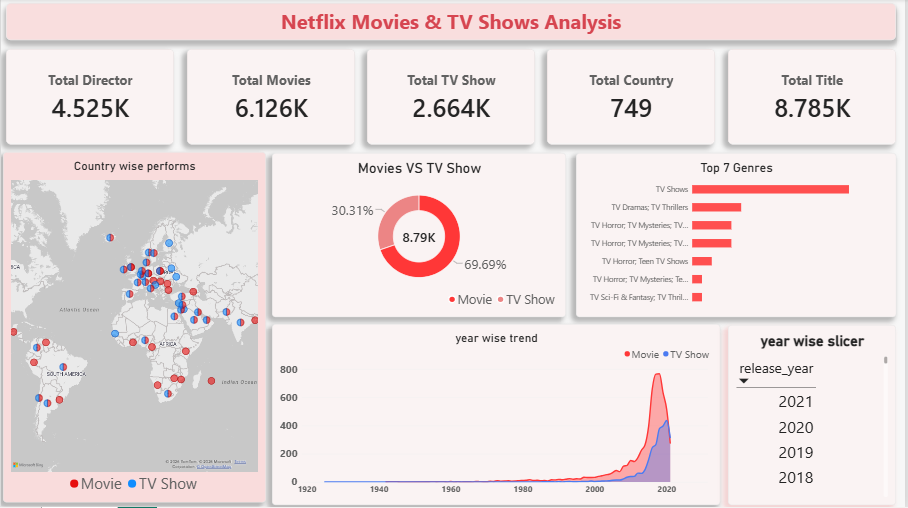

The page's visual inventory and layout, read from the dashboard file:
{"tool":"powerbi","page":{"name":"Page 1","canvas":[1920,1080],"ordinal":0},"visuals":[{"type":"textbox","box":[10.7,8.6,1892.2,79.2],"z":0},{"type":"cardVisual","fields":{"Data":["Count(netflix netflix_title.director)"]},"box":[10.7,107,357.5,203.3],"z":1000},{"type":"cardVisual","fields":{"Data":["Count(netflix netflix_title.show_id)"]},"box":[394.4,107,357.5,203.3],"z":2000},{"type":"cardVisual","fields":{"Data":["Count(netflix netflix_title.show_id)"]},"box":[778.1,107,357.5,203.3],"z":3000},{"type":"cardVisual","fields":{"Data":["Count(netflix netflix_title.country)"]},"box":[1161.7,107,357.5,203.3],"z":4000},{"type":"cardVisual","fields":{"Data":["Count(netflix netflix_title.title)"]},"box":[1545.4,107,357.5,203.3],"z":5000},{"type":"donutChart","title":"Movies vs TV Shows","fields":{"Category":["netflix netflix_title.type"],"Y":["CountNonNull(netflix netflix_title.show_id)"]},"box":[575.8,327.5,625,348.9],"z":6000},{"type":"barChart","title":"Top 7 Genres","fields":{"Category":["netflix netflix_title.listed_in"],"Y":["CountNonNull(netflix netflix_title.show_id)"]},"box":[1222.2,327.5,680.7,348.9],"z":7000},{"type":"areaChart","title":"Year-wise Trend","fields":{"Category":["netflix netflix_title.release_year"],"Series":["netflix netflix_title.type"],"Y":["CountNonNull(netflix netflix_title.show_id)"]},"box":[575.8,691.4,952.5,385.3],"z":7001},{"type":"tableEx","title":"Select Year","fields":{"Values":["netflix netflix_title.release_year"]},"box":[1545.4,693.5,356.6,383.5],"z":7002},{"type":"map","title":"Country-wise Performance","fields":{"Category":["netflix netflix_title.country"],"Series":["netflix netflix_title.type"]},"box":[4.3,325.4,558.7,744.9],"z":7003}]}

Visuals, with their boxes in screenshot pixels (x1, y1, x2, y2), scaled from the page's 1920x1080 canvas onto the 908x508 screenshot:
textbox: crop(5, 4, 900, 41)
cardVisual - Count(netflix netflix_title.director): crop(5, 50, 174, 146)
cardVisual - Count(netflix netflix_title.show_id): crop(187, 50, 356, 146)
cardVisual - Count(netflix netflix_title.show_id): crop(368, 50, 537, 146)
cardVisual - Count(netflix netflix_title.country): crop(549, 50, 718, 146)
cardVisual - Count(netflix netflix_title.title): crop(731, 50, 900, 146)
"Movies vs TV Shows" donutChart: crop(272, 154, 568, 318)
"Top 7 Genres" barChart: crop(578, 154, 900, 318)
"Year-wise Trend" areaChart: crop(272, 325, 723, 506)
"Select Year" tableEx: crop(731, 326, 899, 507)
"Country-wise Performance" map: crop(2, 153, 266, 503)
